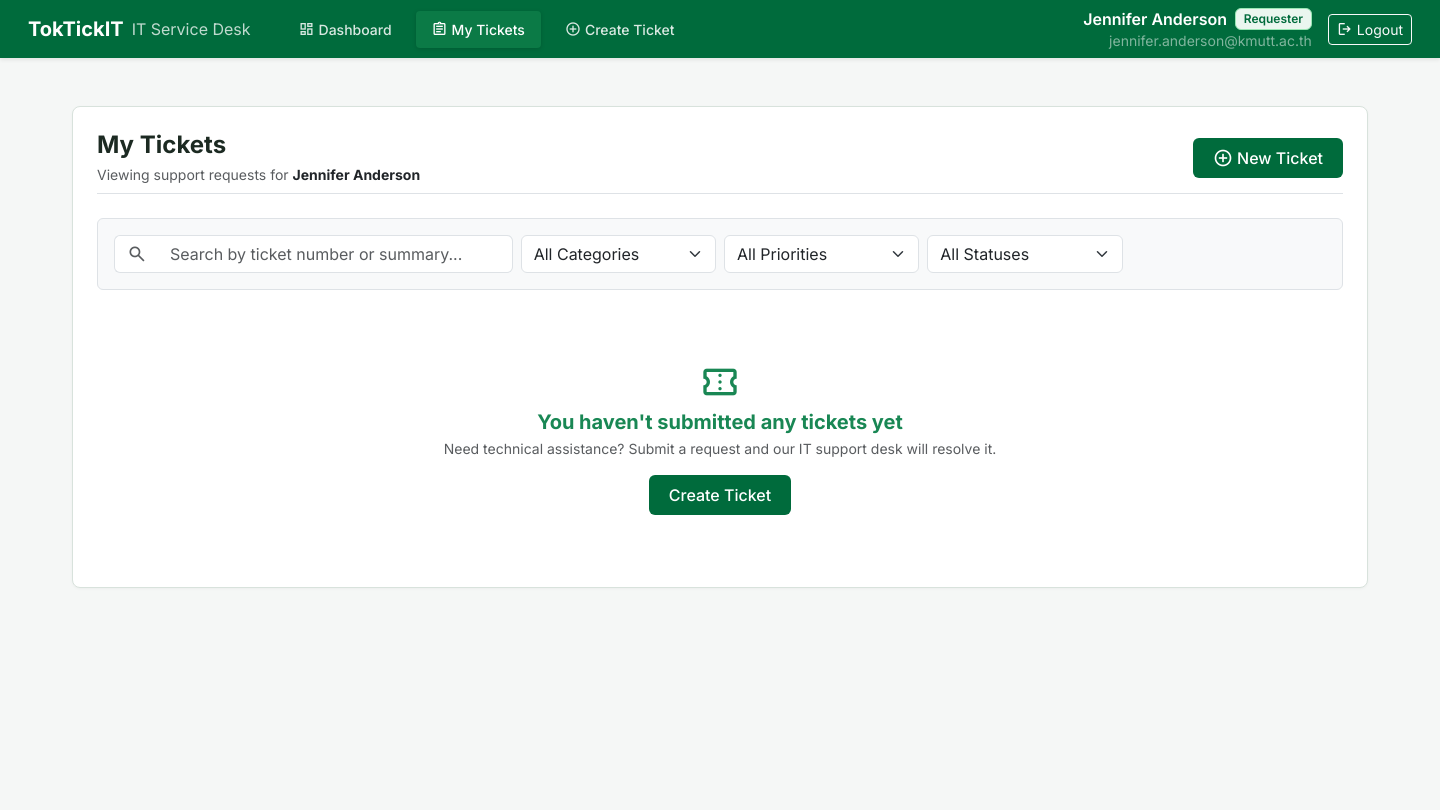
Test case: Lab 2 Create Ticket Suite (client/tests/lab-02/CreateTicket.test.tsx) › displays inline field-level error messages on empty/short submission (UI-03, AC-02, BR-06)
expect the text "Jennifer Anderson" next to "Requester" is shown: met, box [1083,9,1227,29]
Click the button "Create Ticket" in the row of "IT Service Desk". click: (620, 29)
box: [549,11,690,48]
(page scrolled)
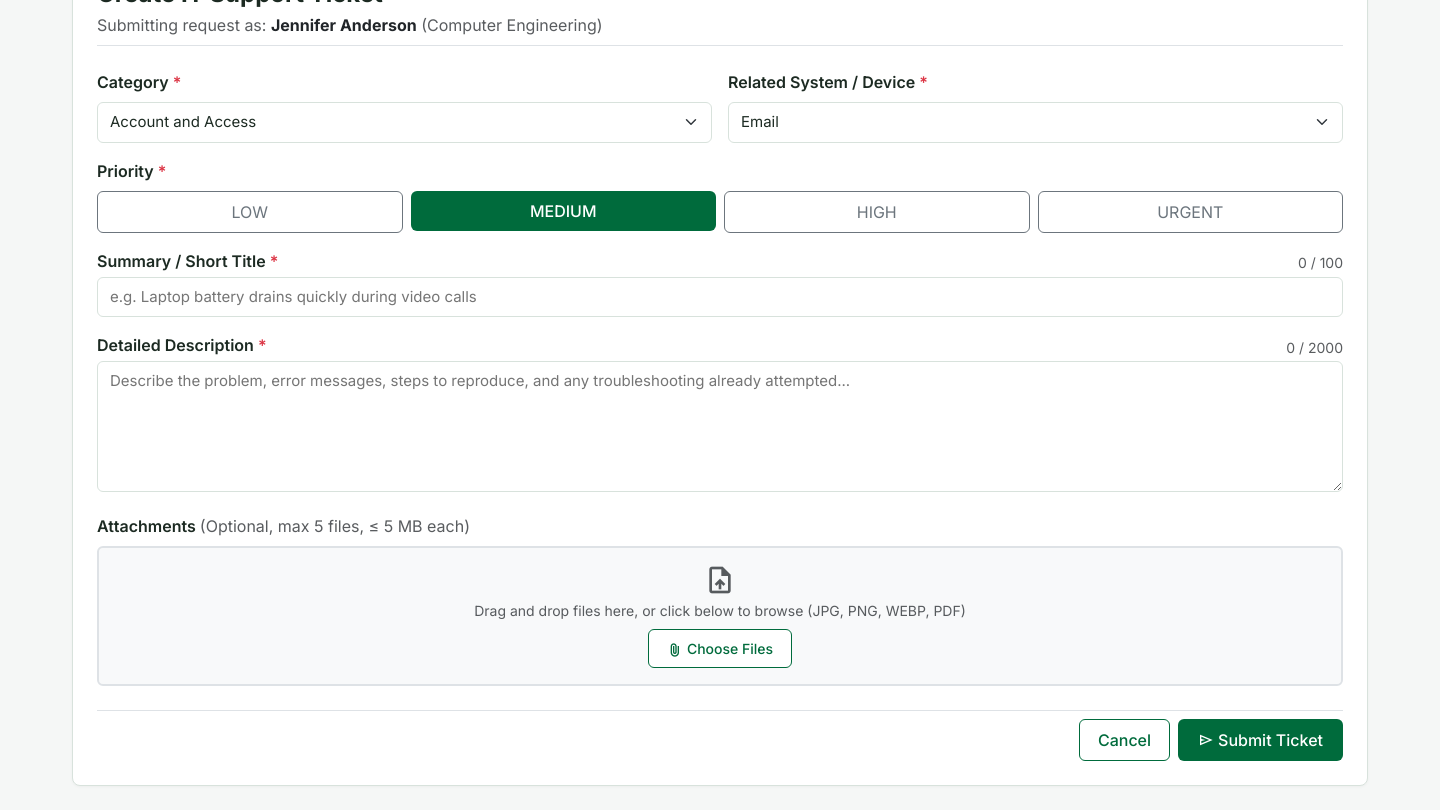
expect the field labelled "Summary / Short Title *" is shown: met, box [97,277,1343,317]
Click the button "Submit Ticket". click: (1260, 740)
box: [1178,719,1343,761]
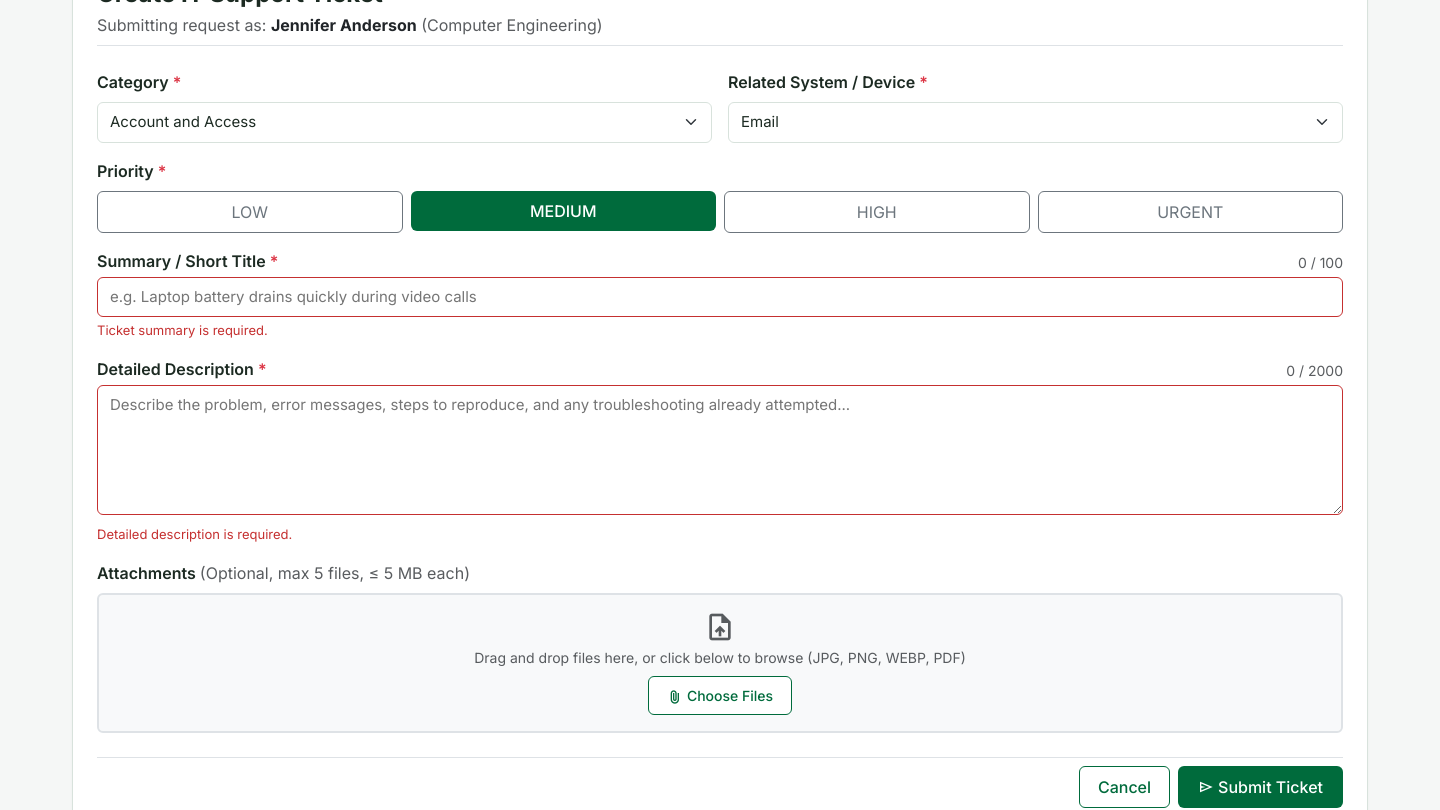
expect the text "Ticket summary is required." is shown: met, box [97,322,268,338]
expect the text "Detailed description is required." is shown: met, box [97,526,292,542]
